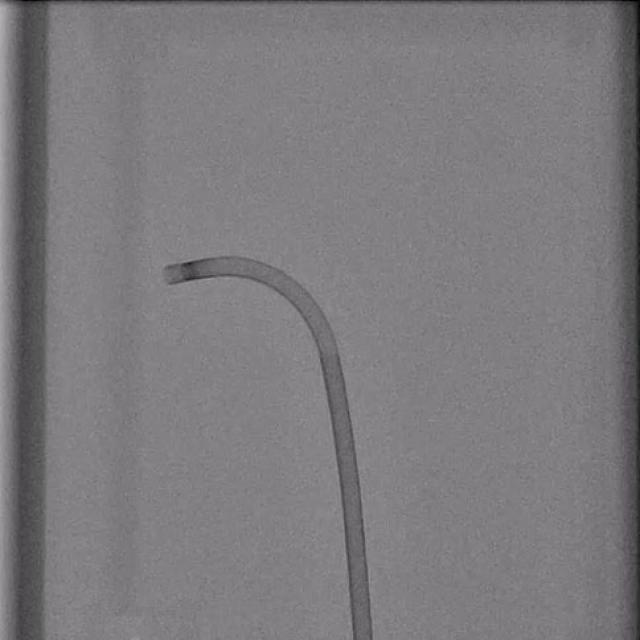bend: (317, 344, 340, 357)
entry: (354, 636, 372, 640)
marker: (181, 261, 199, 281)
tip: (162, 265, 174, 286)
